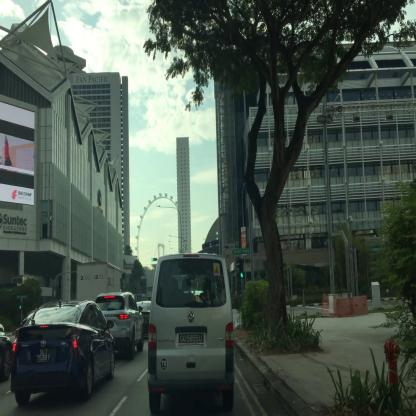green_traffic_light: (239, 258, 243, 278), (152, 257, 157, 261)
